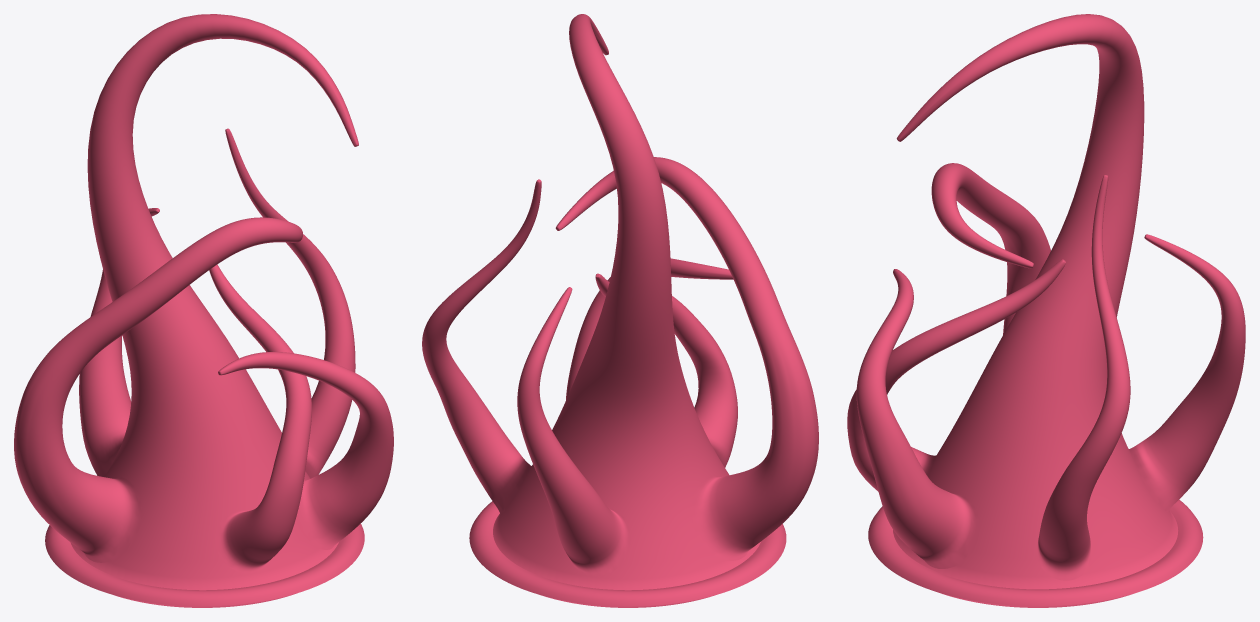
The model's file is LRGTentacle_STATIC.fbx.
3 renders of one model, left to right at view 1: azimuth 30°, elevation 25°; view 2: azimuth 150°, elevation 25°; view 3: azimuth 270°, elevation 25°, orthographic. The views are drawn at different scales.
Parts seen in each view (by area): view 1: LRGTentacle_STATIC; view 2: LRGTentacle_STATIC; view 3: LRGTentacle_STATIC.
Boxes of the visible parts, x1,y1,x2,y2 form: LRGTentacle_STATIC: (14,14,393,607); LRGTentacle_STATIC: (422,14,818,607); LRGTentacle_STATIC: (847,14,1245,607).
Size of the model in its own units: 814 by 742 by 1112.
